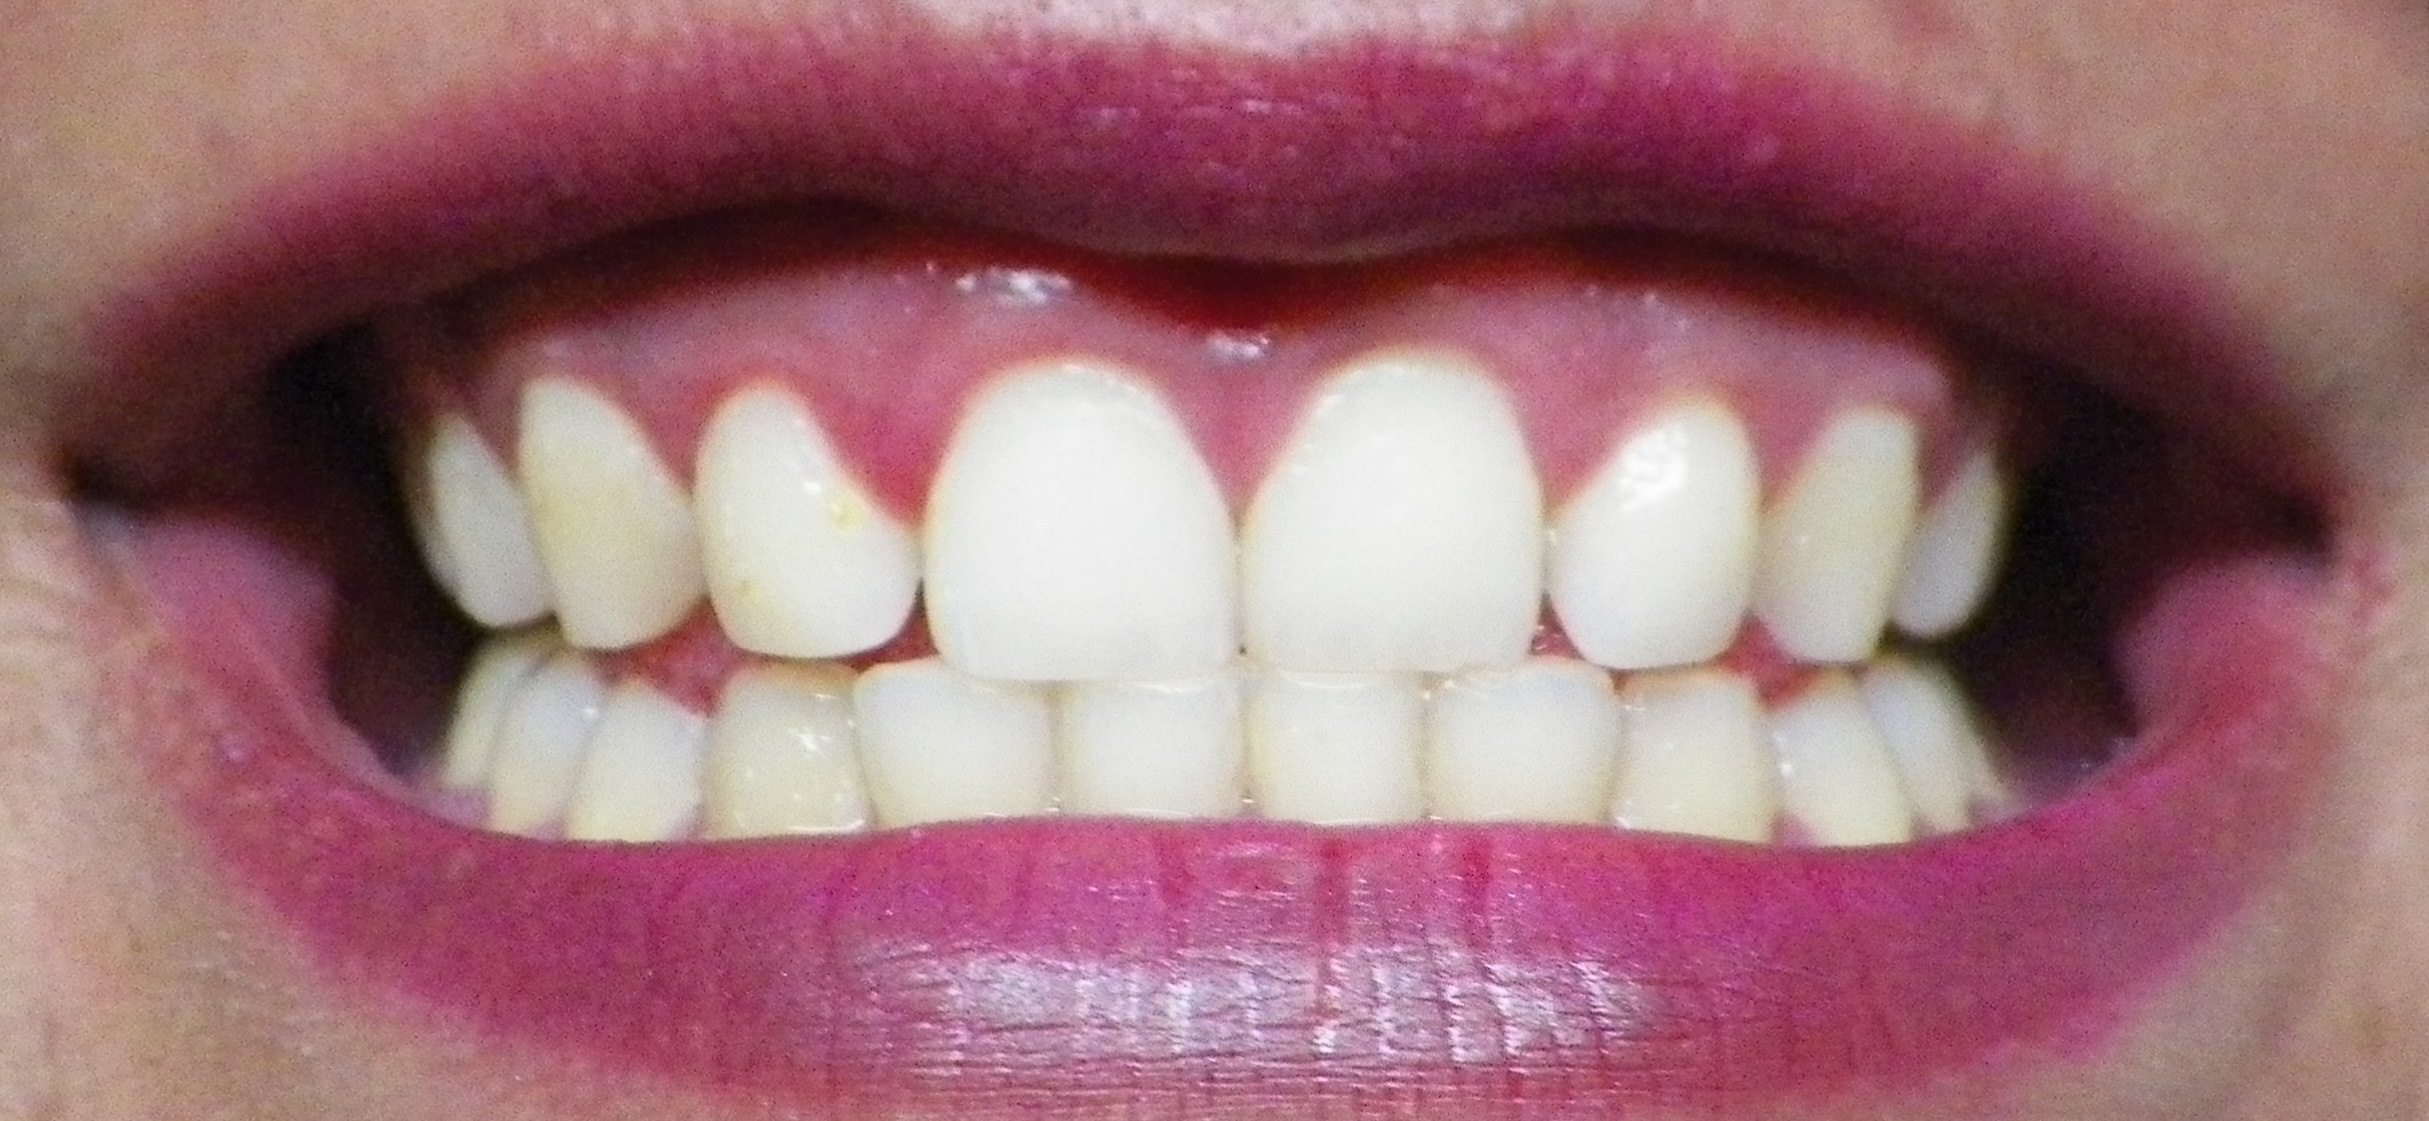boca: (376, 342, 2048, 839)
